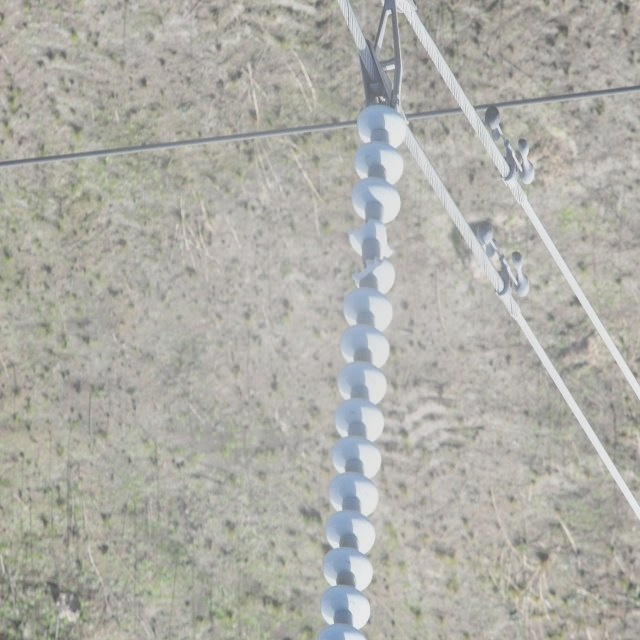broken: (347, 214, 394, 256), (351, 254, 389, 283)
insulator: (318, 102, 405, 640)
